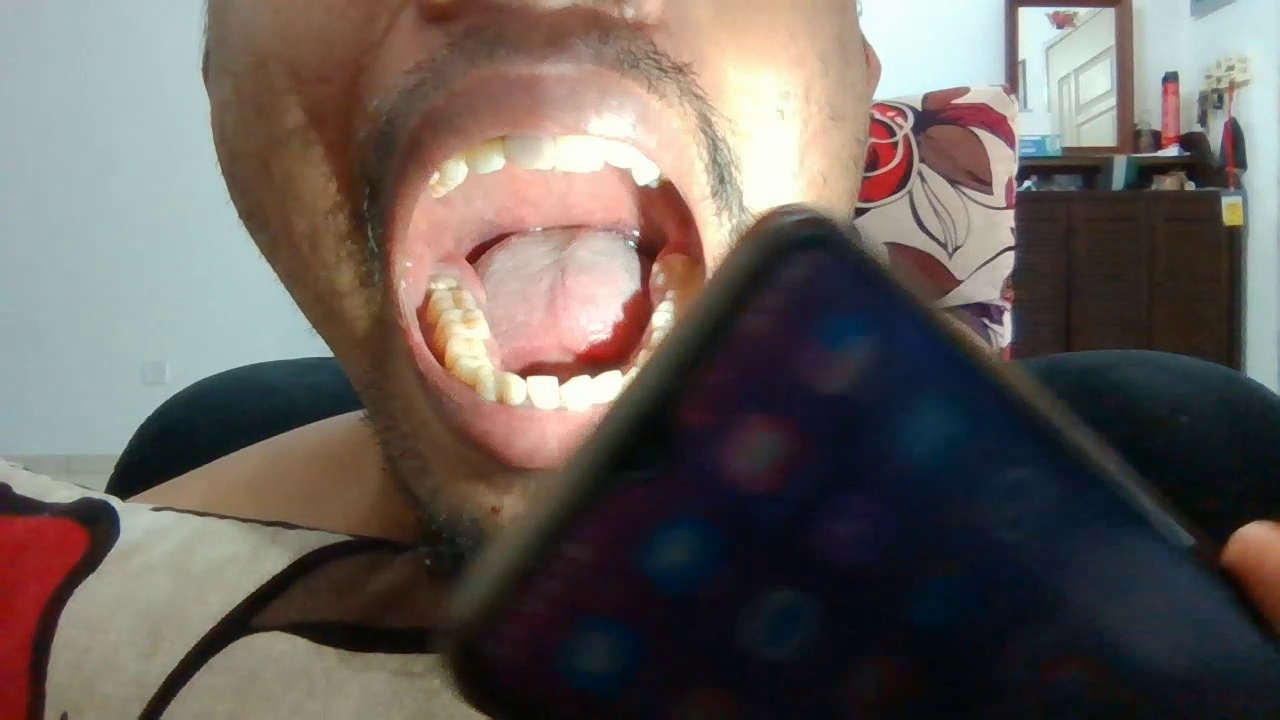1st Molar: (432, 310, 493, 340)
1st Premolar: (453, 357, 491, 384)
2nd Molar: (425, 290, 478, 310)
2nd Premolar: (444, 337, 485, 365)
3rd Molar: (649, 253, 706, 287), (425, 271, 462, 290)
Canine: (633, 152, 662, 191), (443, 157, 469, 191), (475, 366, 497, 401)
Central Incisor: (551, 135, 606, 172), (502, 134, 551, 172), (562, 373, 594, 411), (527, 375, 561, 409)
Lateral Incisor: (464, 142, 505, 175), (496, 371, 527, 407), (595, 369, 624, 406), (607, 140, 637, 171)
